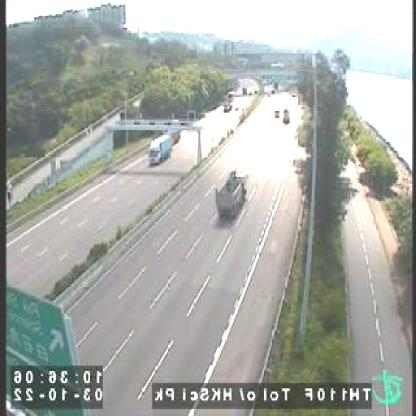Truck: (216, 168, 248, 217), (147, 134, 173, 164)
